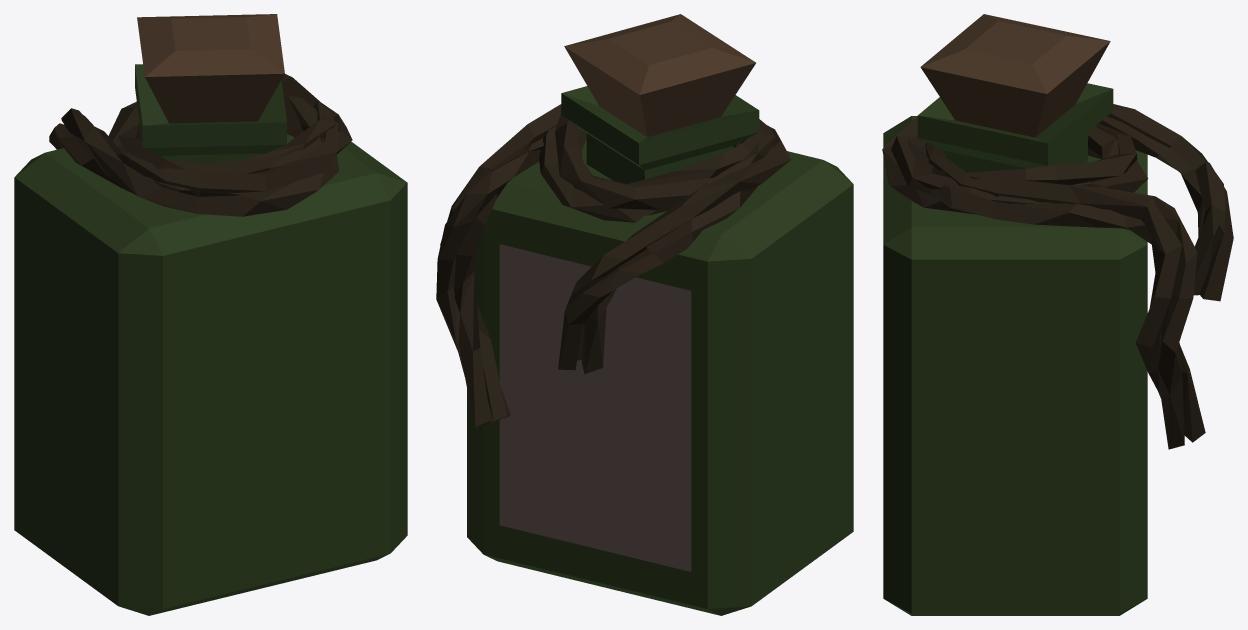
Rendered from Bottle.fbx.
3 views of the same model, side by side, from view 1: azimuth 30°, elevation 25°; view 2: azimuth 150°, elevation 25°; view 3: azimuth 270°, elevation 25° (orthographic).
Parts seen in each view (by area): view 1: Cylinder.001; view 2: Cylinder.001; view 3: Cylinder.001.
Boxes of the visible parts, <box> form: Cylinder.001: <box>14,14,407,615</box>; Cylinder.001: <box>436,14,853,615</box>; Cylinder.001: <box>882,14,1233,615</box>.
Size of the model in its own units: 1091 by 1825 by 1123.
